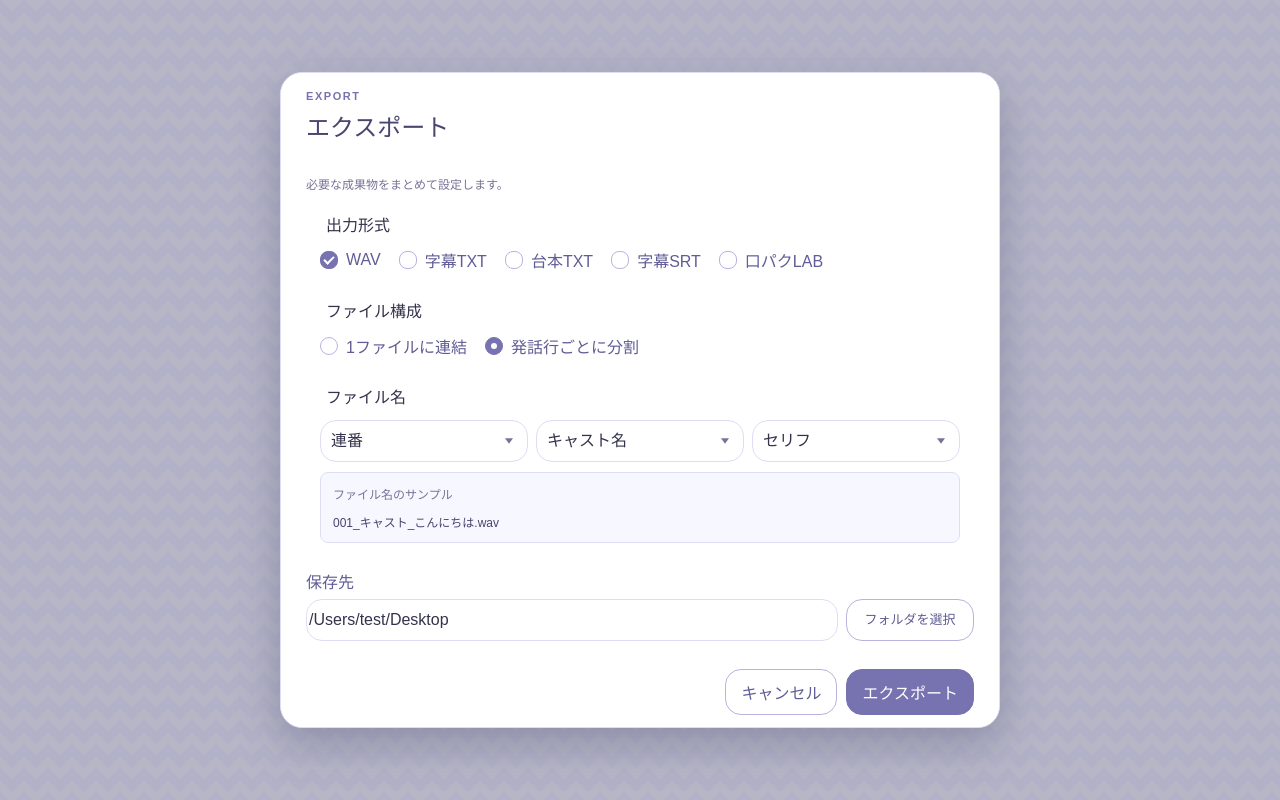
Scenario: hides LAB for joined export and removes it when switching from split
The width and height of the screenshot is (1280, 800).
Click the checkbox labelled "口パクLAB".
click(728, 260)  # box [719,251,737,269]
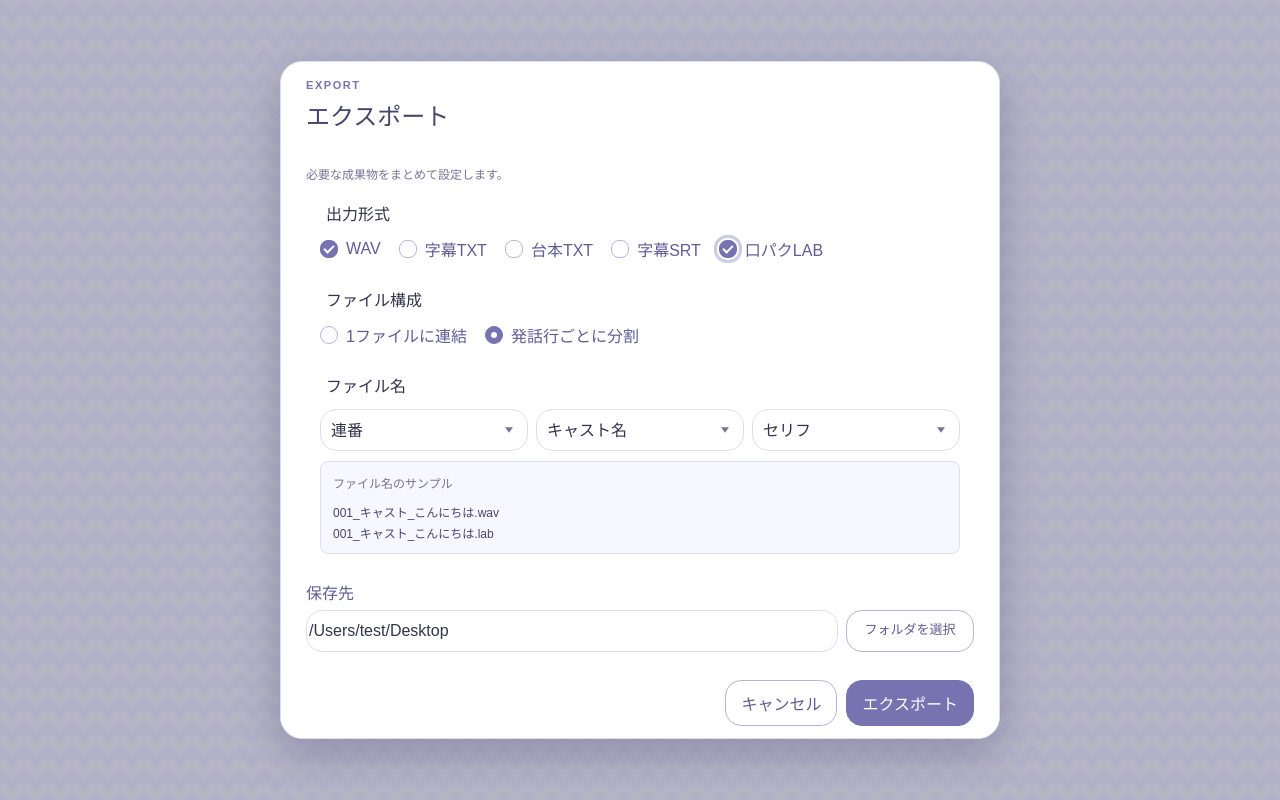
Now the checkbox labelled "口パクLAB" is checked, box [719,240,737,258]
Click the radio button labelled "1ファイルに連結".
click(329, 335)  # box [320,326,338,344]
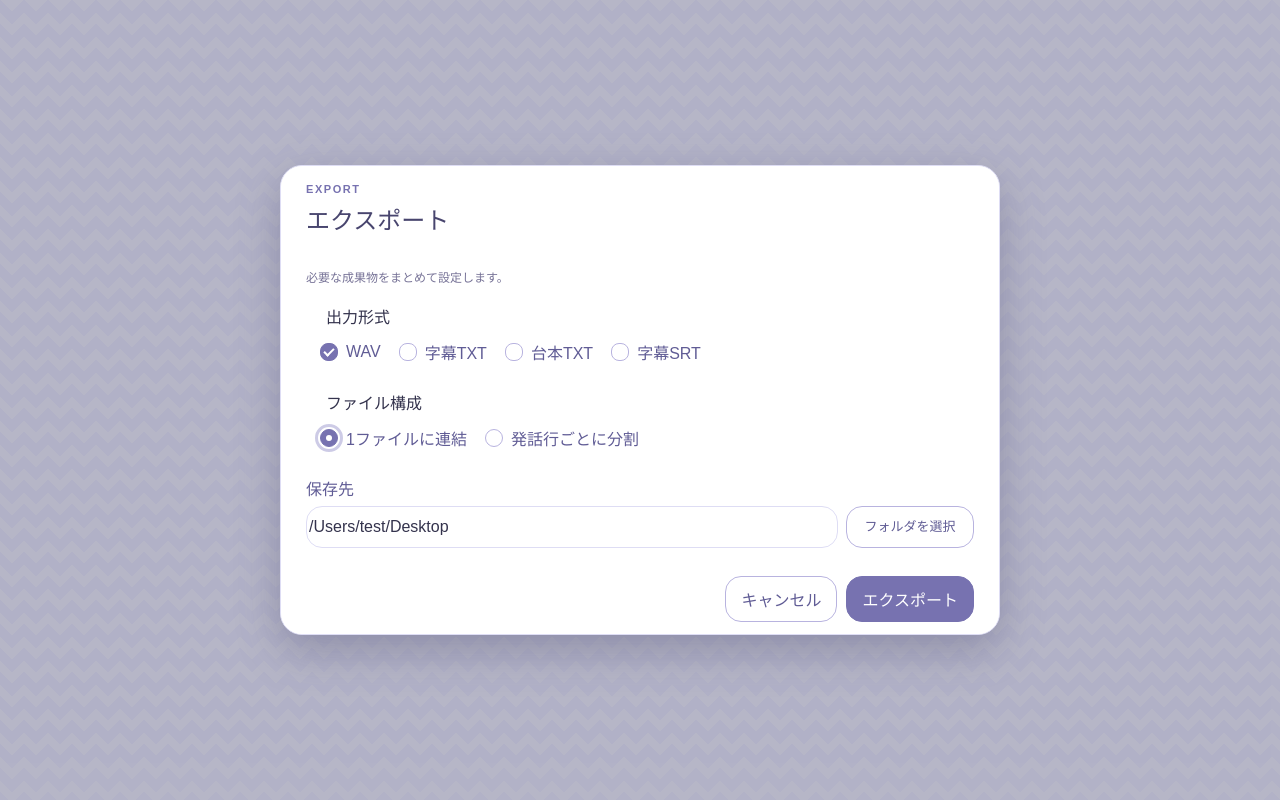
Expected: the checkbox labelled "WAV" is checked, [320,343,338,361]
Now the radio button labelled "1ファイルに連結" is checked, box [320,429,338,447]
Now the label labelled "口パクLAB" is gone
Click the radio button labelled "発話行ごとに分割".
click(494, 438)  # box [485,429,503,447]
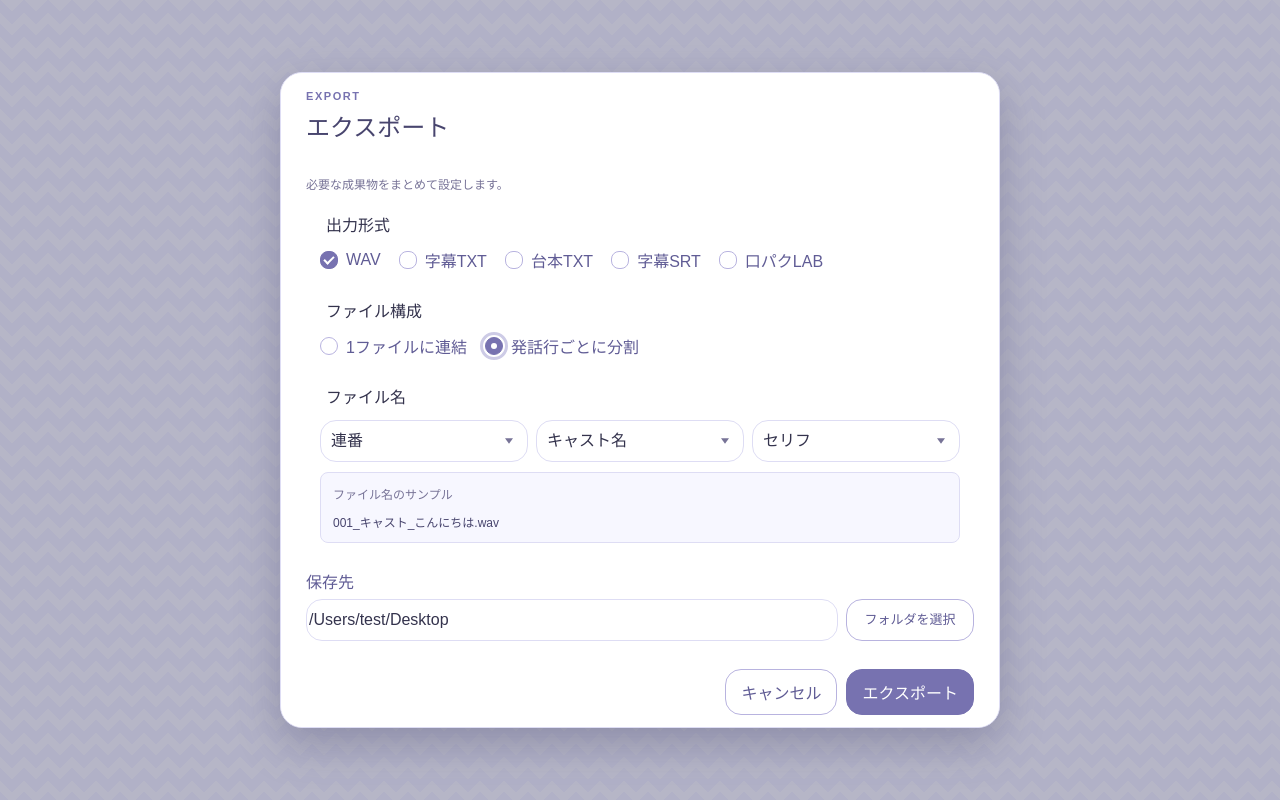
Now the checkbox labelled "口パクLAB" is not checked, box [719,251,737,269]
